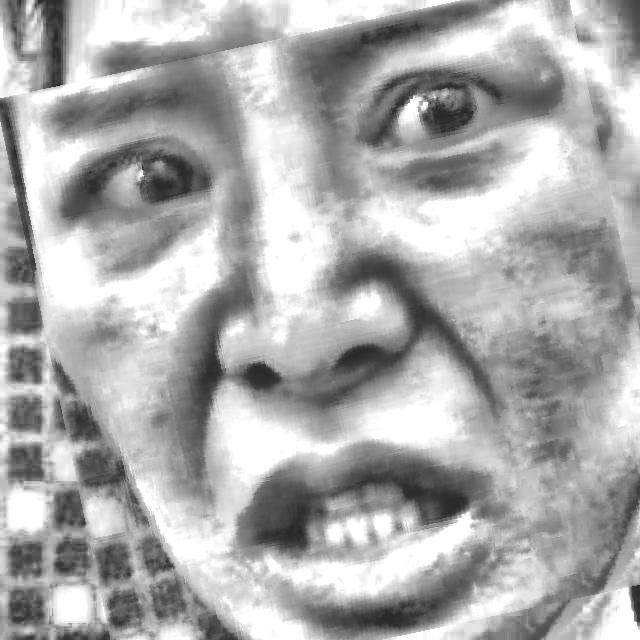angry: (23, 4, 640, 640)
